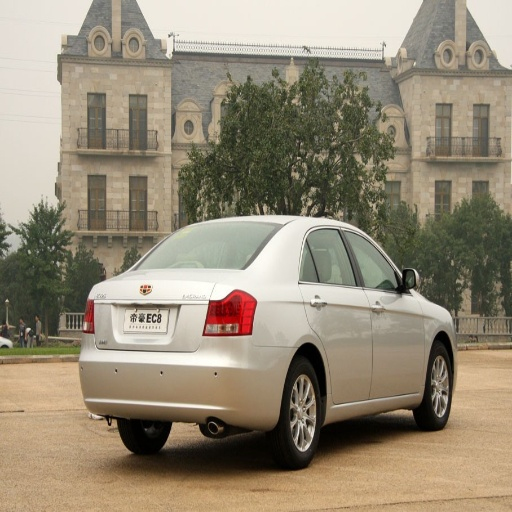back_bumper: (78, 335, 287, 429)
back_right_door: (299, 225, 372, 402)
